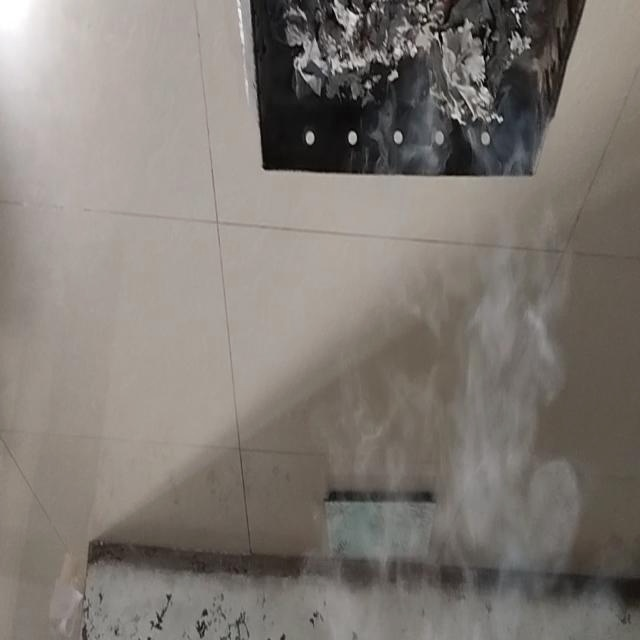smoke: (391, 110, 577, 636)
